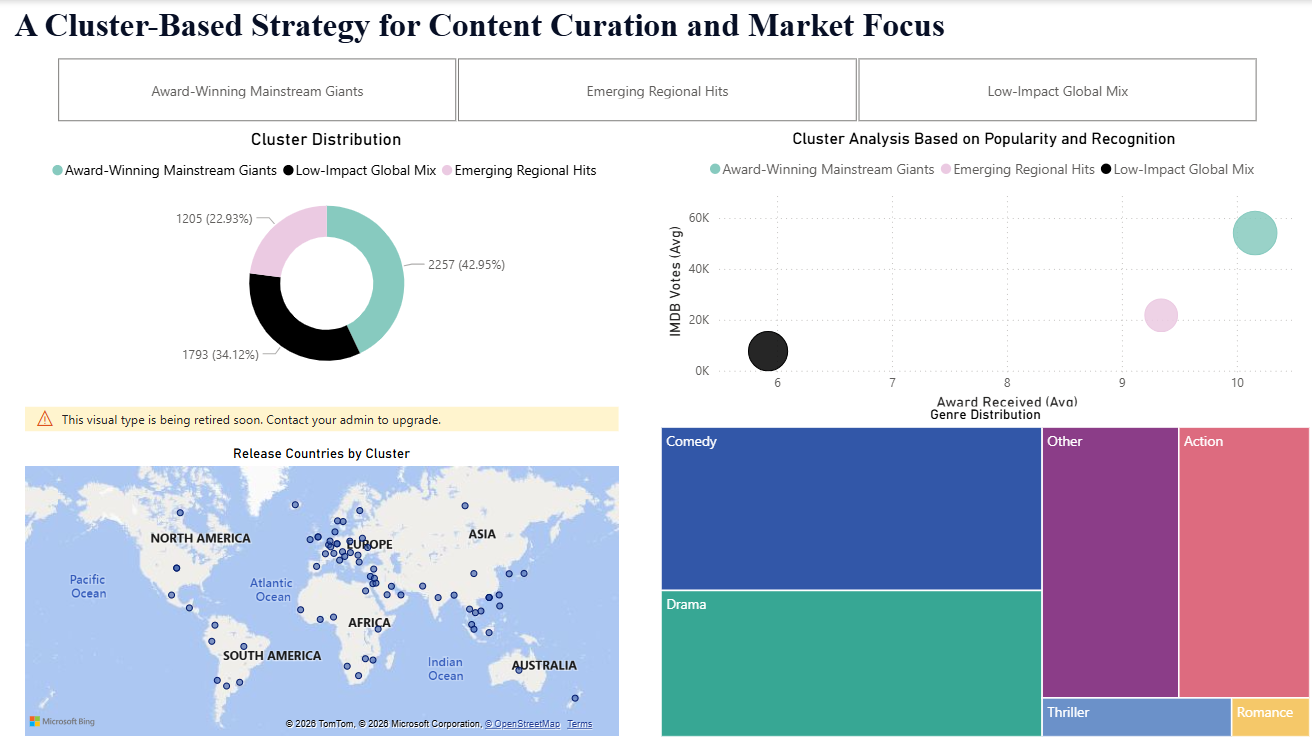

The dashboard page shown, as its layout file describes it:
{"tool":"powerbi","page":{"name":"7. Clustering","canvas":[1280,720],"ordinal":7},"visuals":[{"type":"textbox","box":[11,0,918,49.4],"z":0},{"type":"slicer","fields":{"Values":["Final_Cluster.ClusterName"]},"box":[33,49.5,1212.8,75.1],"z":1000},{"type":"donutChart","title":"Cluster Distribution","fields":{"Y":["CountNonNull(Final_Cluster.Title)"],"Category":["Final_Cluster.ClusterName"]},"box":[32.6,124.5,575.2,250.1],"z":2000},{"type":"scatterChart","title":"Cluster Analysis Based on Popularity and Recognition","fields":{"X":["Avg(Filtered_Rotten_Tomatoes.Awards Received)"],"Y":["Avg(Filtered_Rotten_Tomatoes.IMDb Votes)"],"Series":["Final_Cluster.ClusterName"],"Size":["CountNonNull(Final_Cluster.Title)"]},"box":[644.9,124.9,625.7,277.2],"z":3000},{"type":"map","title":"Release Countries by Cluster","fields":{"Category":["Filtered_Netflix.Country"]},"box":[21.7,395.1,586,325],"z":4000},{"type":"treemap","title":"Genre Distribution","fields":{"Values":["CountNonNull(Final_Cluster.Title)"],"Group":["Final_Cluster.Main_Genre"]},"box":[639.2,395.1,640.4,325],"z":5000}]}

Visuals, with their boxes in screenshot pixels (x1, y1, x2, y2), scaled from the page's 1280x720 canvas onto the 1312x738 screenshot:
textbox: <bbox>11, 0, 952, 51</bbox>
slicer - Final_Cluster.ClusterName: <bbox>34, 51, 1277, 128</bbox>
"Cluster Distribution" donutChart: <bbox>33, 128, 623, 384</bbox>
"Cluster Analysis Based on Popularity and Recognition" scatterChart: <bbox>661, 128, 1302, 412</bbox>
"Release Countries by Cluster" map: <bbox>22, 405, 623, 737</bbox>
"Genre Distribution" treemap: <bbox>655, 405, 1311, 737</bbox>
